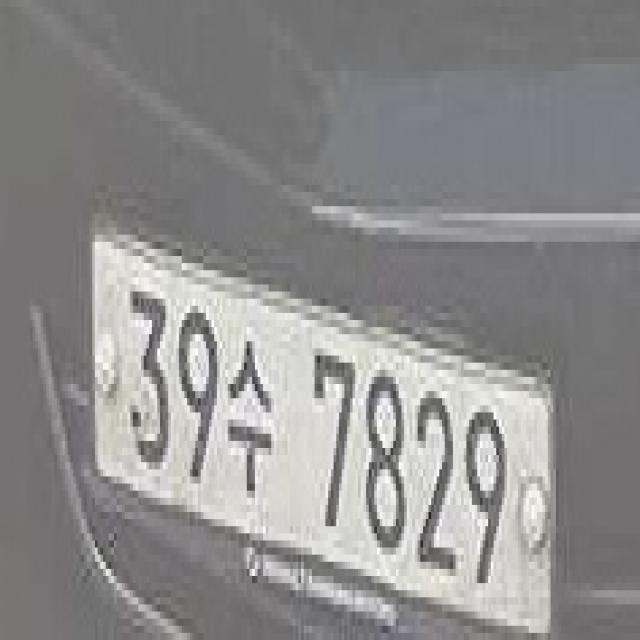2: (415, 384, 456, 583)
3: (125, 278, 171, 470)
7: (309, 342, 355, 540)
8: (363, 362, 407, 562)
9: (464, 398, 510, 598), (179, 298, 220, 491)
license_plate: (86, 220, 558, 640)
su: (222, 327, 274, 512)
